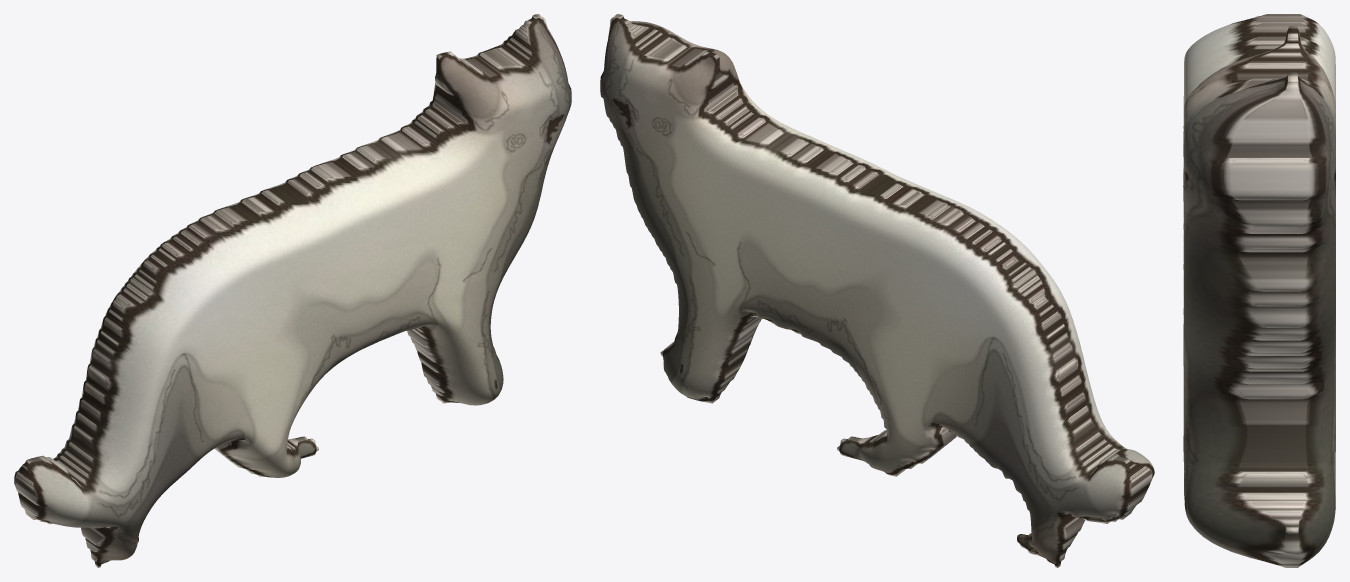
The model's file is domestic_cat_236808539.glb.
3 renders of one model, left to right at view 1: azimuth 30°, elevation 25°; view 2: azimuth 150°, elevation 25°; view 3: azimuth 270°, elevation 25°, orthographic. The views are drawn at different scales.
Visible parts, largest first — view 1: domestic_cat_236808539; view 2: domestic_cat_236808539; view 3: domestic_cat_236808539.
Boxes of the visible parts, left/top/right/bottom form: domestic_cat_236808539: left=14, top=14, right=571, bottom=567; domestic_cat_236808539: left=600, top=14, right=1154, bottom=567; domestic_cat_236808539: left=1183, top=14, right=1335, bottom=567.
Bounding box in the file's own units: 1.97 × 1.58 × 0.329.
Materials: 1 (1 with a texture image).
